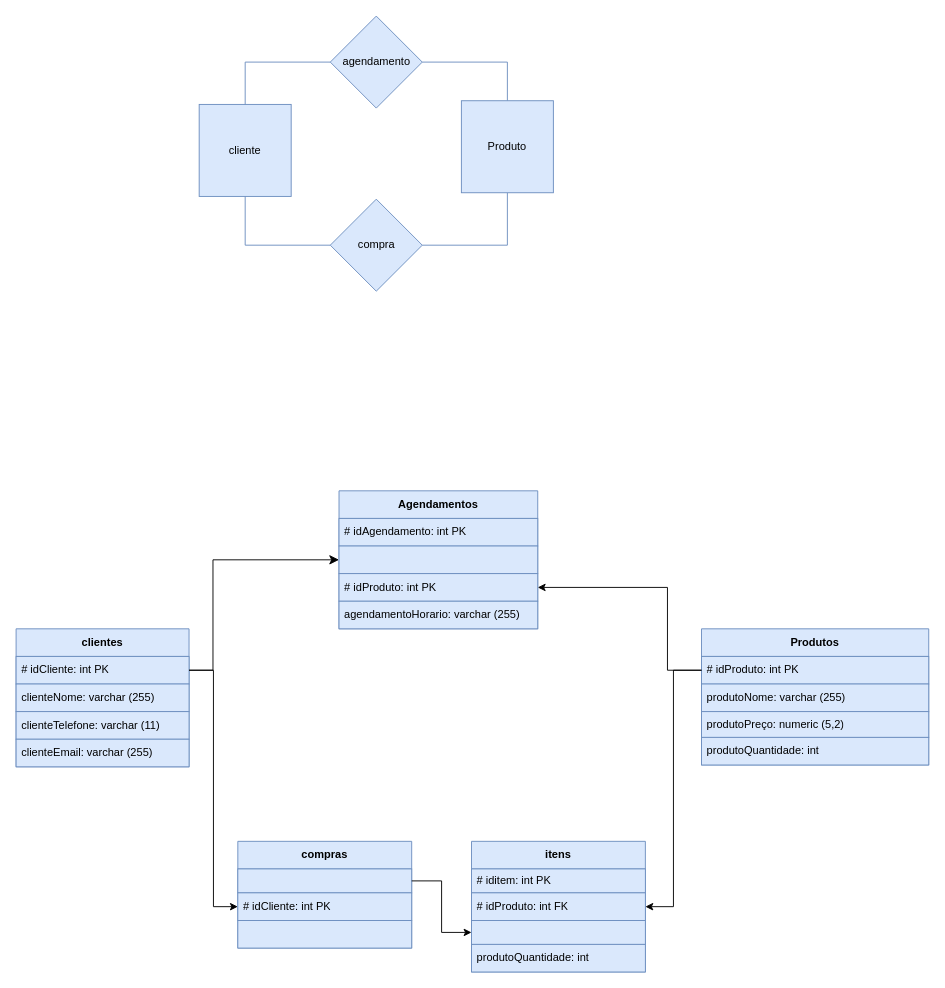
The diagram is 945 pixels wide and 988 high, and some of its shapes have lost their labels. The centre of each missing label's shape, as x and y in pixels:
# idCliente: int FK: point 438,559
# idCompra: int FK: point 558,932
# idCompra: int PK: point 324,880
vendahorario: varchar (255): point 324,934
